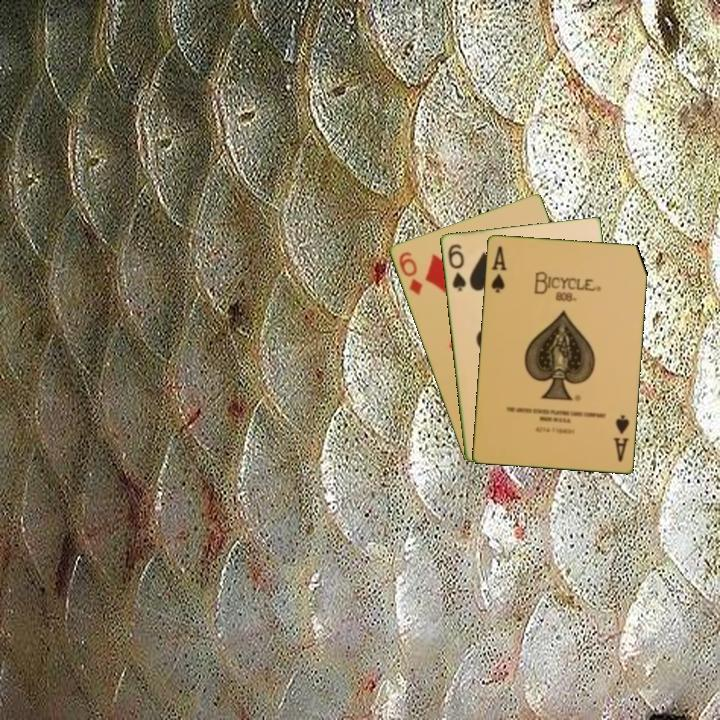6d: (395, 248, 425, 298)
6s: (444, 240, 469, 294)
As: (487, 242, 509, 295), (610, 411, 632, 464)
